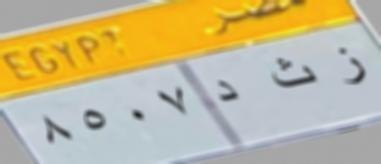0: (124, 97, 148, 132)
5: (78, 106, 106, 136)
7: (152, 83, 190, 121)
8: (40, 116, 73, 150)
daal: (212, 76, 239, 108)
thaa: (266, 54, 322, 93)
zay: (334, 42, 368, 90)
